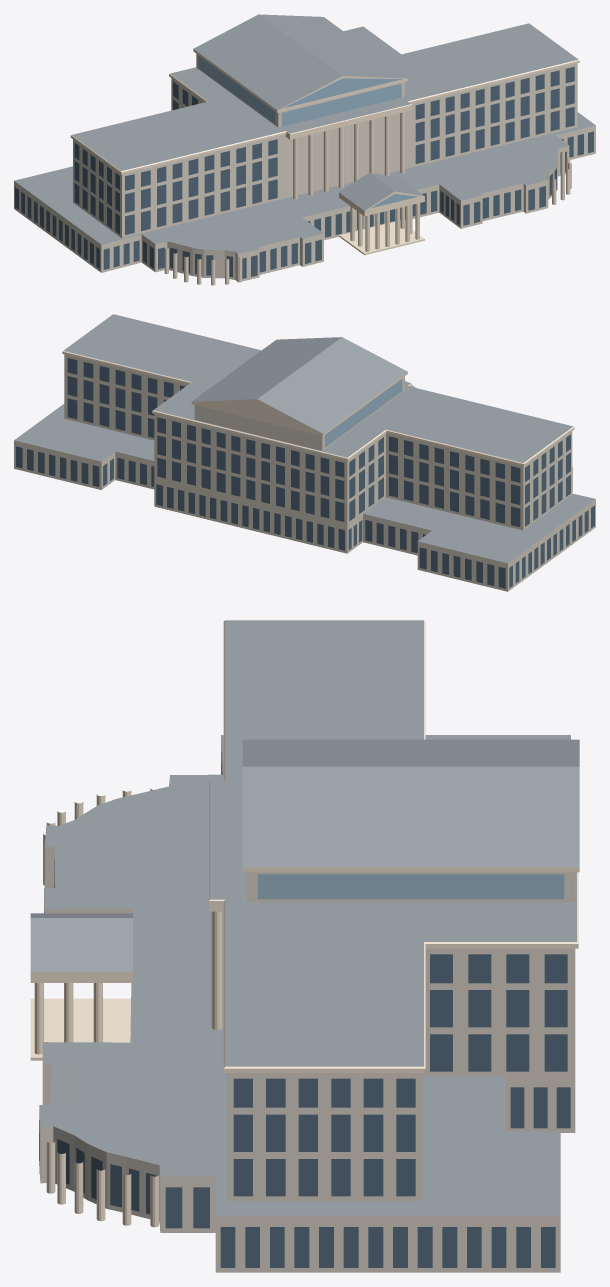
File: jax-duval-county-courthouse.glb
The picture shows the model from 3 angles, top to bottom: view 1: azimuth 30°, elevation 25°; view 2: azimuth 150°, elevation 25°; view 3: azimuth 270°, elevation 25°; orthographic projection. The views are drawn at different scales.
Parts seen in each view (by area): view 1: Duval County Courthouse; view 2: Duval County Courthouse; view 3: Duval County Courthouse.
Part boxes in pixels (x1,y1,x2,y2): Duval County Courthouse: [14, 14, 595, 285]; Duval County Courthouse: [14, 314, 595, 591]; Duval County Courthouse: [30, 620, 579, 1272].
Bounding box in the file's own units: 210 × 54 × 101.
